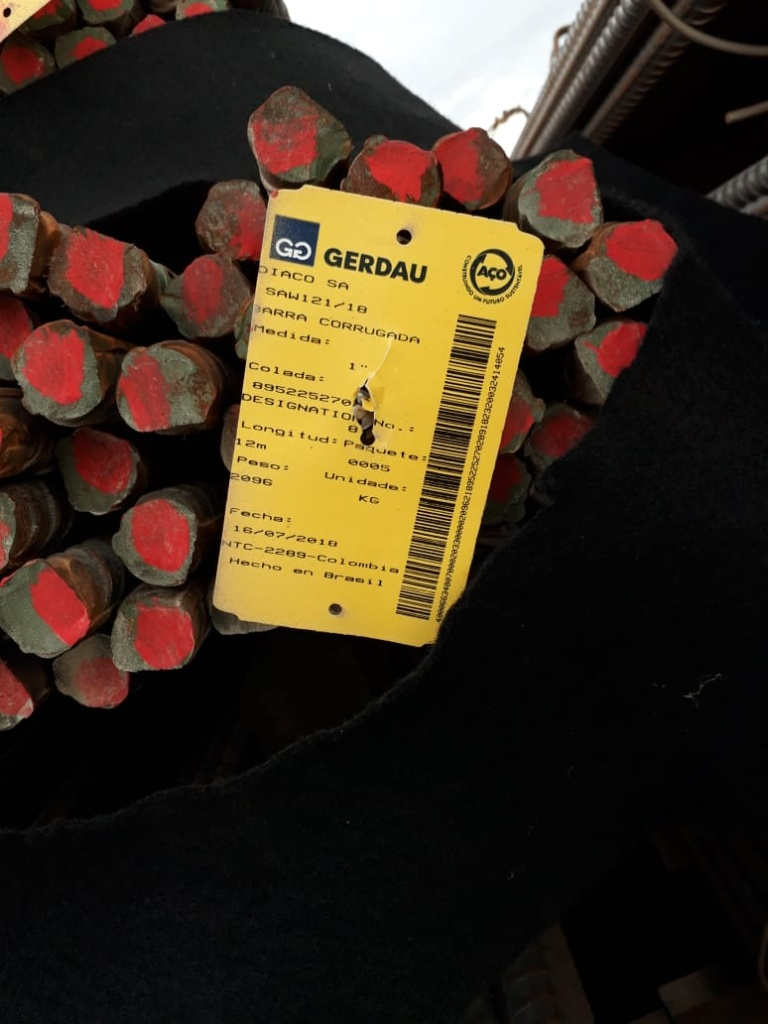dipstick: (248, 84, 356, 182), (47, 228, 151, 318), (11, 322, 103, 421), (1, 562, 90, 660), (518, 149, 606, 247), (116, 347, 216, 431), (587, 220, 677, 312), (162, 251, 250, 338), (112, 497, 199, 585), (526, 253, 598, 352), (60, 429, 141, 517), (342, 140, 441, 208), (433, 127, 511, 209), (112, 597, 195, 671), (195, 177, 267, 260), (574, 318, 647, 397), (53, 637, 128, 707), (525, 402, 592, 470), (1, 192, 40, 293), (499, 375, 545, 455), (481, 455, 528, 522), (1, 301, 32, 380), (1, 663, 35, 735)
